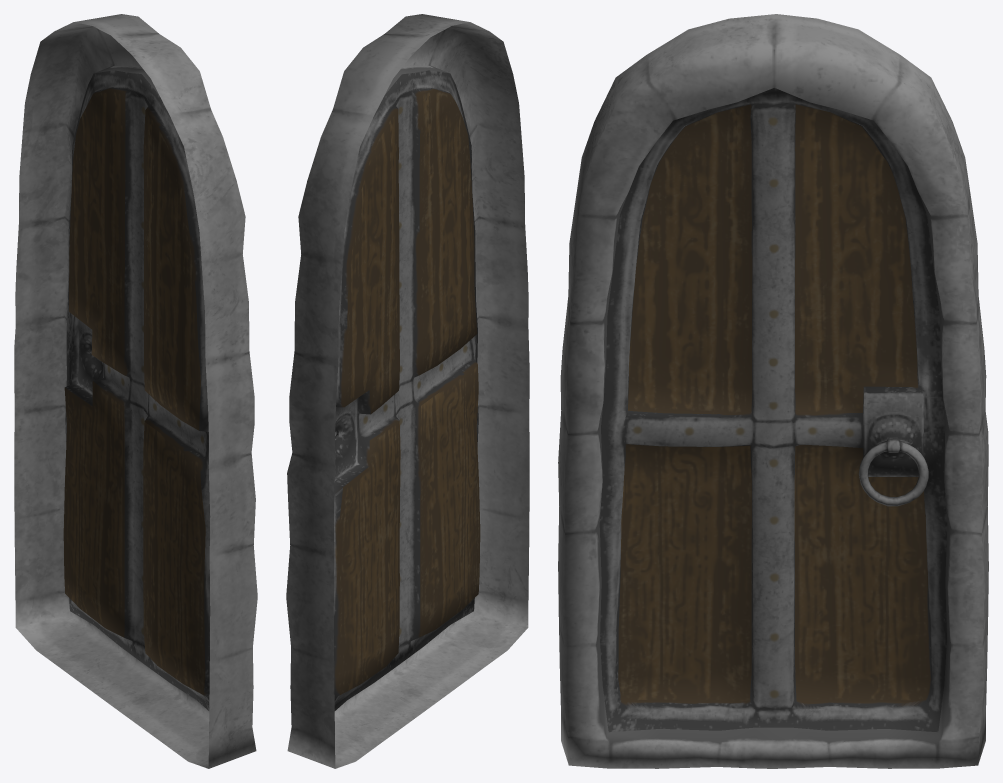
The model's file is Door_LP.fbx.
The picture shows the model from 3 angles, left to right: view 1: azimuth 30°, elevation 25°; view 2: azimuth 150°, elevation 25°; view 3: azimuth 270°, elevation 25°; orthographic projection. The views are drawn at different scales.
Parts seen in each view (by area): view 1: Door_LP; view 2: Door_LP; view 3: Door_LP.
Boxes of the visible parts, <box> form: Door_LP: <box>14,14,257,768</box>; Door_LP: <box>286,14,529,768</box>; Door_LP: <box>558,14,988,768</box>.
Size of the model in its own units: 13.3 by 155 by 82.01.
Materials: 1 (1 with a texture image).
